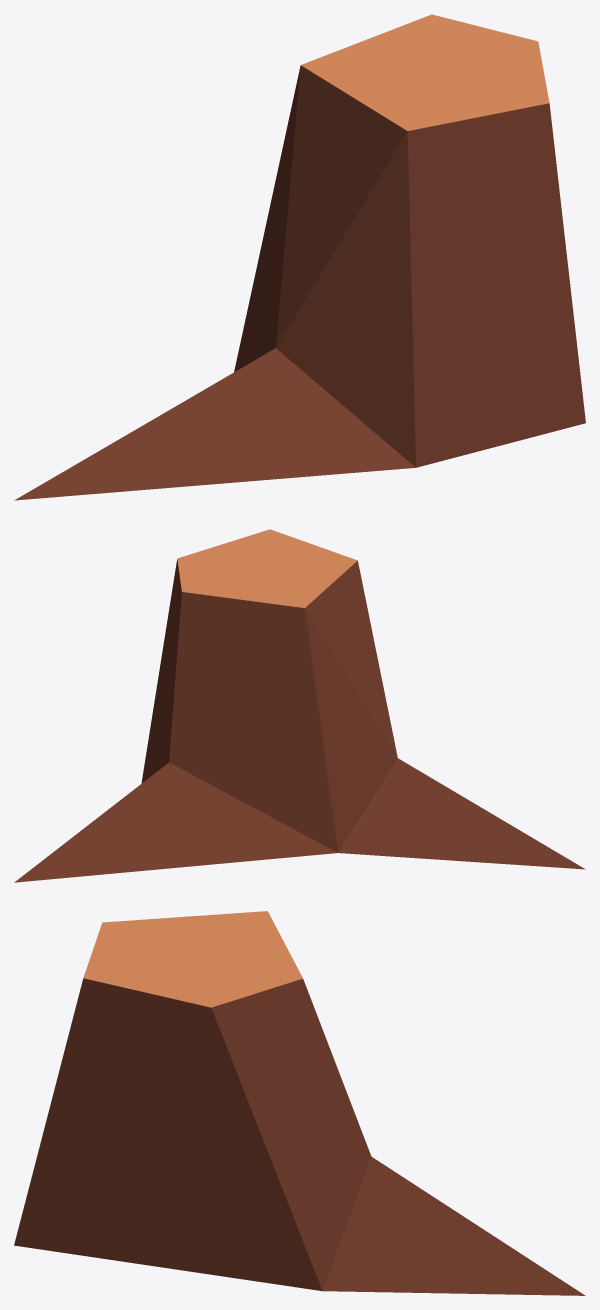
File: pine_trunk_type_2_LOD3.fbx
The picture shows the model from 3 angles, top to bottom: view 1: azimuth 30°, elevation 25°; view 2: azimuth 150°, elevation 25°; view 3: azimuth 270°, elevation 25°; orthographic projection. The views are drawn at different scales.
Parts seen in each view (by area): view 1: pt_type_2; view 2: pt_type_2; view 3: pt_type_2.
Part boxes in pixels (x1,y1,x2,y2): pt_type_2: (14, 14, 585, 500); pt_type_2: (14, 529, 585, 882); pt_type_2: (14, 911, 585, 1295).
Bounding box in the file's own units: 348 × 185 × 332.
